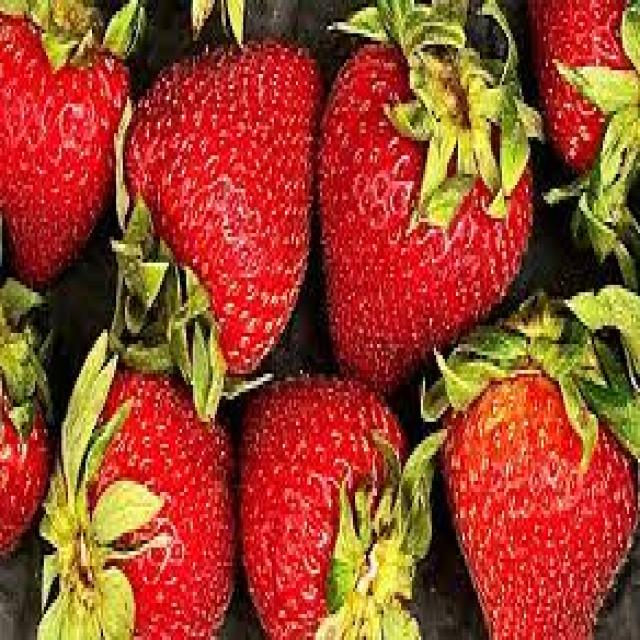strawberry: (312, 9, 546, 374), (117, 35, 317, 388), (229, 346, 436, 640), (444, 326, 634, 640), (34, 349, 239, 640), (2, 0, 126, 264)
